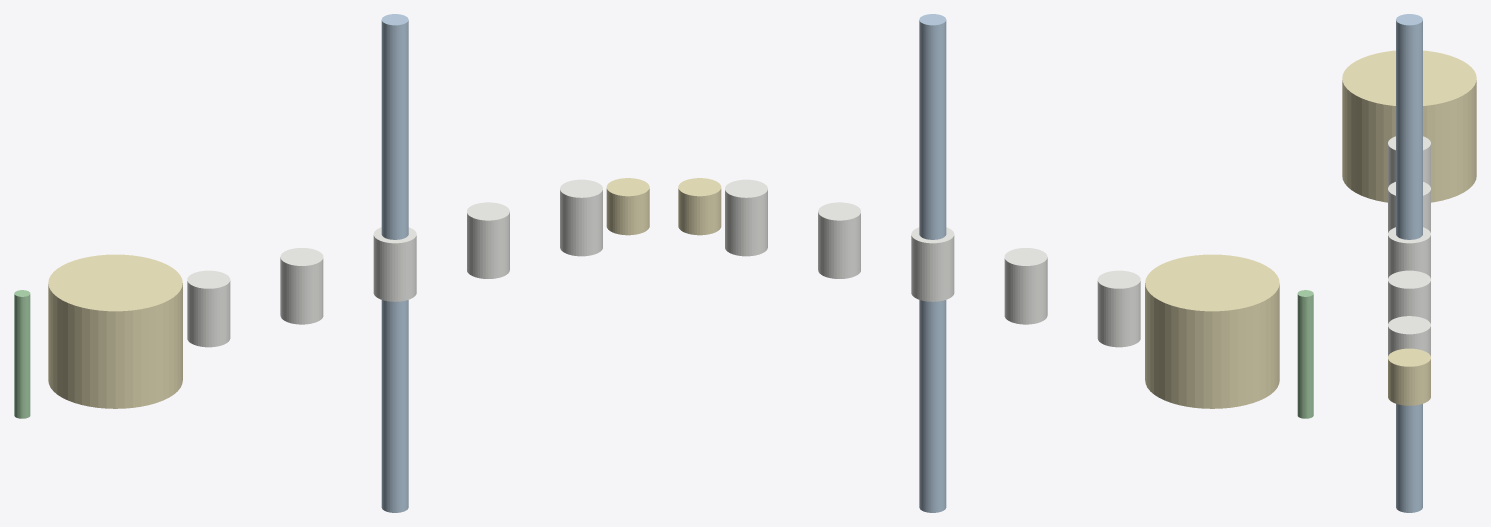
The model's file is neuron.glb.
3 views of the same model, side by side, from view 1: azimuth 30°, elevation 25°; view 2: azimuth 150°, elevation 25°; view 3: azimuth 270°, elevation 25° (orthographic).
Visible parts, largest first — view 1: neuron-soma, neuron-axon, neuron-myelin-0, neuron-myelin-1, neuron-myelin-4, neuron-myelin-3, neuron-myelin-2, neuron-terminal, neuron-dendrite-2, neuron-dendrite-0, neuron-dendrite-1; view 2: neuron-soma, neuron-axon, neuron-myelin-0, neuron-myelin-1, neuron-myelin-4, neuron-myelin-3, neuron-myelin-2, neuron-terminal, neuron-dendrite-0, neuron-dendrite-2, neuron-dendrite-1; view 3: neuron-soma, neuron-axon, neuron-terminal, neuron-myelin-3, neuron-myelin-2, neuron-myelin-4, neuron-myelin-0, neuron-myelin-1.
Part boxes in pixels (x1,y1,x2,y2): neuron-soma: (48,254,182,408); neuron-axon: (381,14,408,512); neuron-myelin-0: (187,270,230,347); neuron-myelin-1: (280,248,323,324); neuron-myelin-4: (560,179,602,256); neuron-myelin-3: (467,202,509,278); neuron-myelin-2: (373,227,416,301); neuron-terminal: (606,178,649,235); neuron-dendrite-2: (14,290,29,418); neuron-dendrite-0: (14,290,30,418); neuron-dendrite-1: (14,290,30,418); neuron-soma: (1145,254,1279,408); neuron-axon: (919,14,946,512); neuron-myelin-0: (1097,270,1140,347); neuron-myelin-1: (1004,248,1047,324); neuron-myelin-4: (725,179,767,256); neuron-myelin-3: (818,202,860,278); neuron-myelin-2: (911,227,954,301); neuron-terminal: (678,178,721,235); neuron-dendrite-0: (1298,290,1313,418); neuron-dendrite-2: (1298,290,1313,418); neuron-dendrite-1: (1297,290,1313,418); neuron-soma: (1342,50,1476,202); neuron-axon: (1396,14,1422,512); neuron-terminal: (1388,348,1430,405); neuron-myelin-3: (1388,270,1430,323); neuron-myelin-2: (1388,227,1430,278); neuron-myelin-4: (1388,316,1430,355); neuron-myelin-0: (1388,136,1430,187); neuron-myelin-1: (1388,182,1430,232).
Size of the model in its own units: 0.1355 by 0.1 by 0.025.
